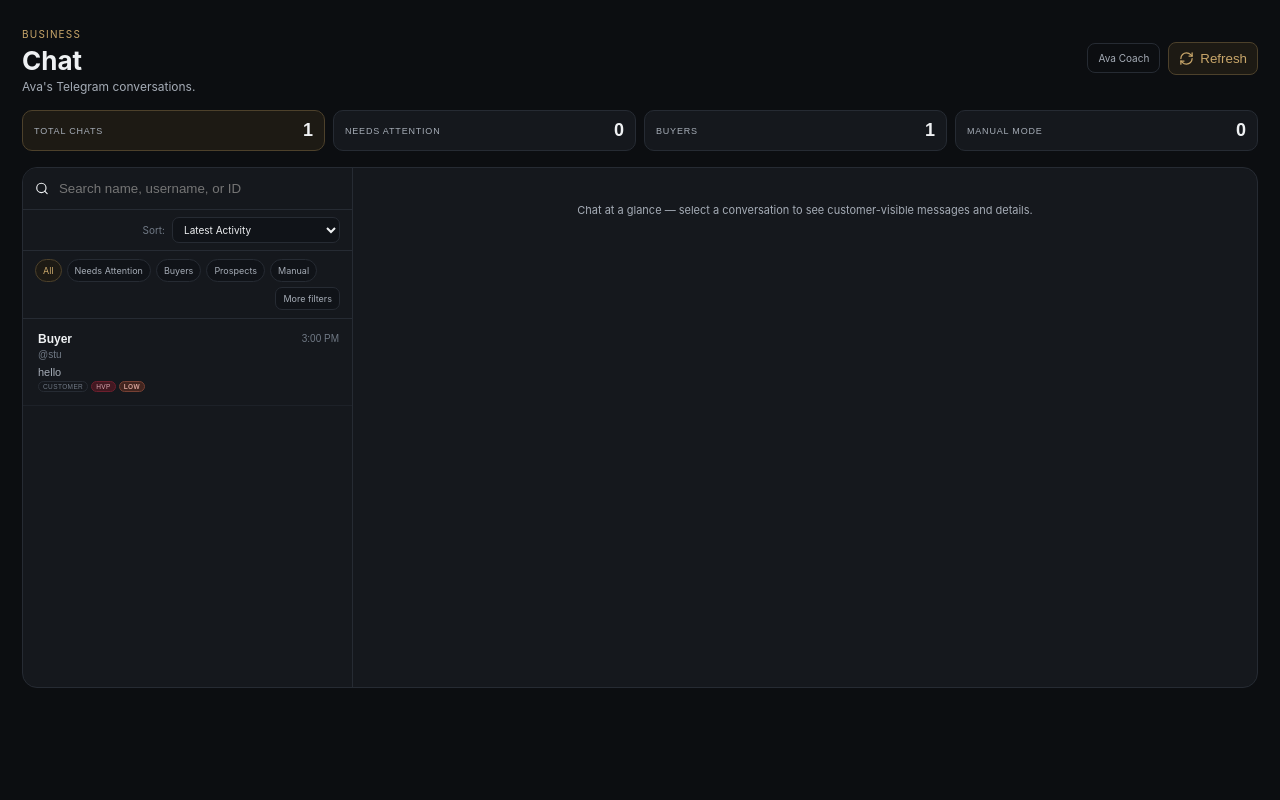
Test: orders compact lifecycle, HVP, tier and policy badges and preserves buyer authority
The image size is (1280, 800).
Step 1. Click the button "Buyer" → (55, 339), box [23, 319, 352, 406]
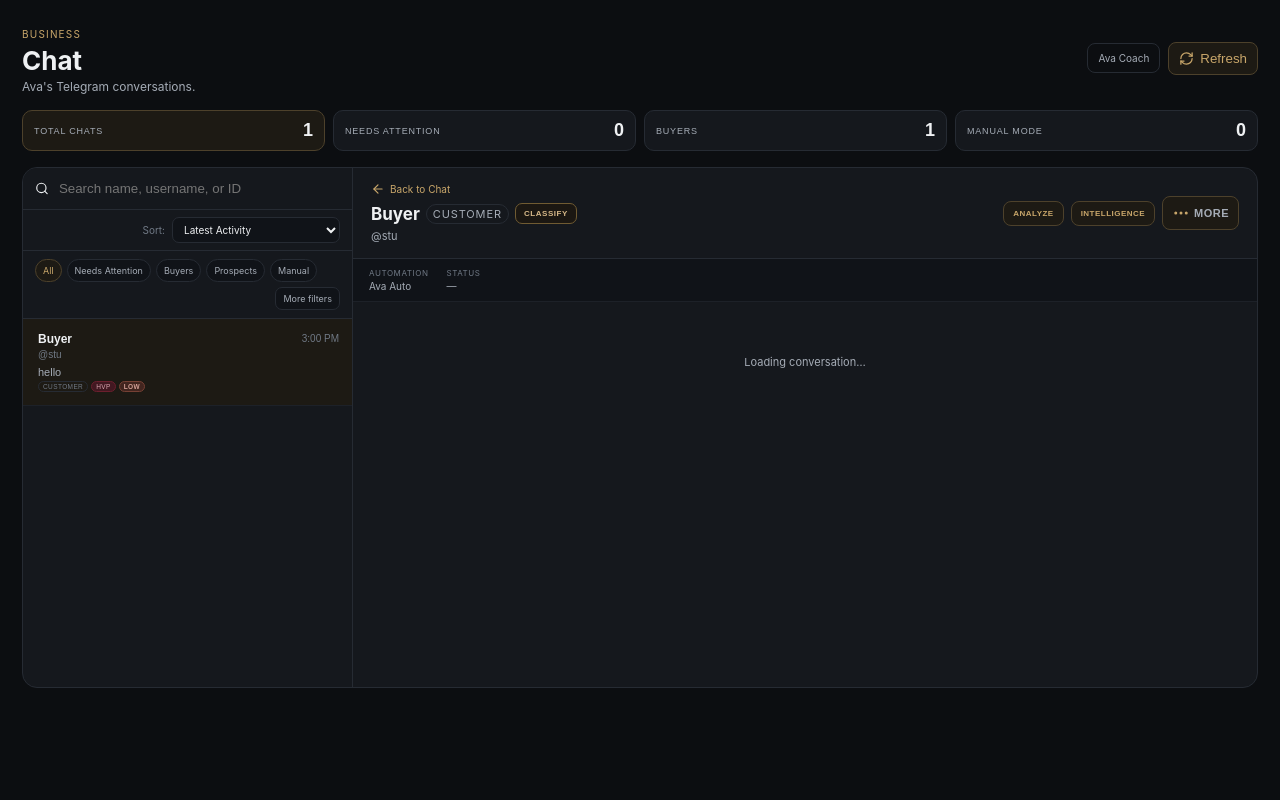
Result: the button with aria-label "Open Customer Intelligence" is shown
Step 2. Click the button with aria-label "Open Customer Intelligence" → (1113, 213), box [1071, 200, 1155, 226]
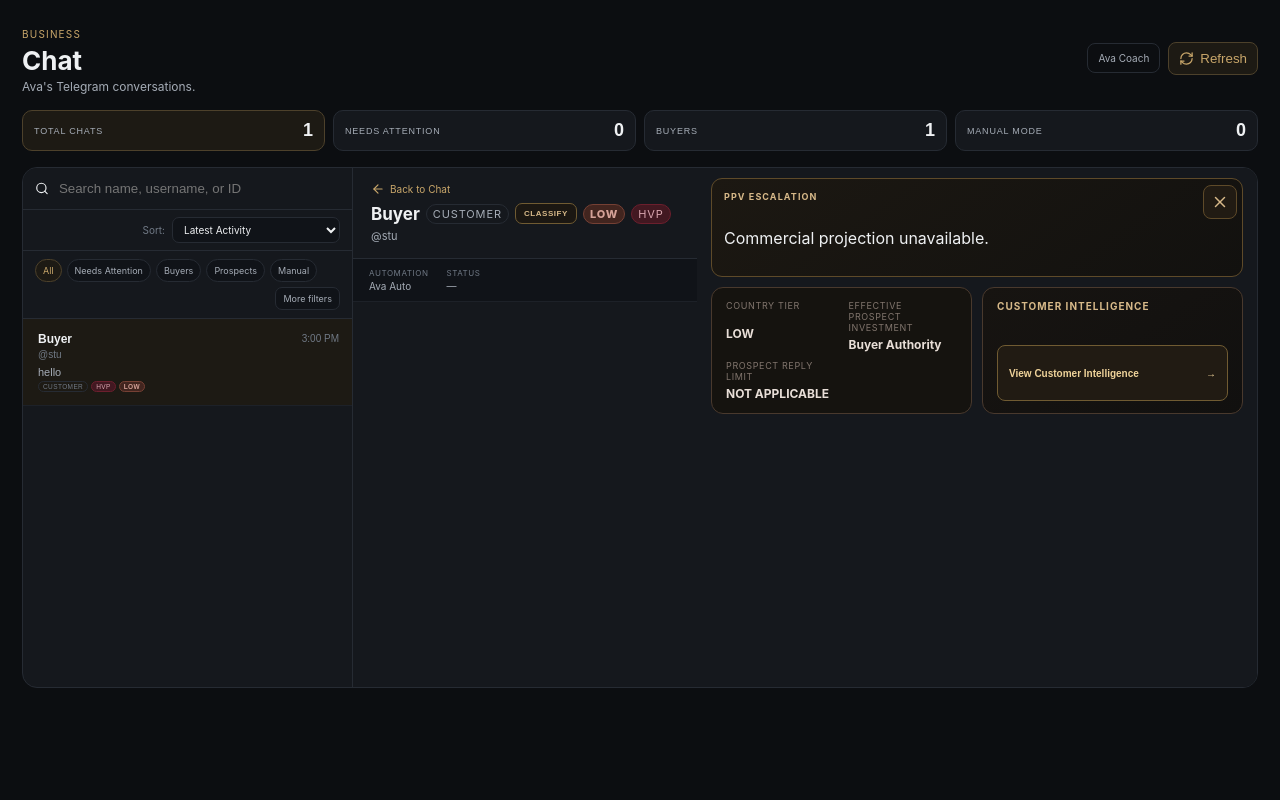
Expected: the element named "Country Tier Intelligence" does not show "Ordinary Replies Today", [711, 287, 972, 414]
Result: the element named "Country Tier Intelligence" shows "Buyer Authority" at [848, 337, 942, 352]
Result: the element named "Country Tier Intelligence" shows "NOT APPLICABLE" at [726, 386, 829, 401]
